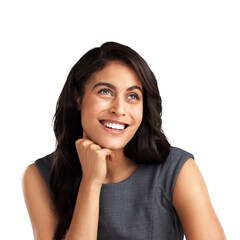young: (63, 44, 164, 160)
